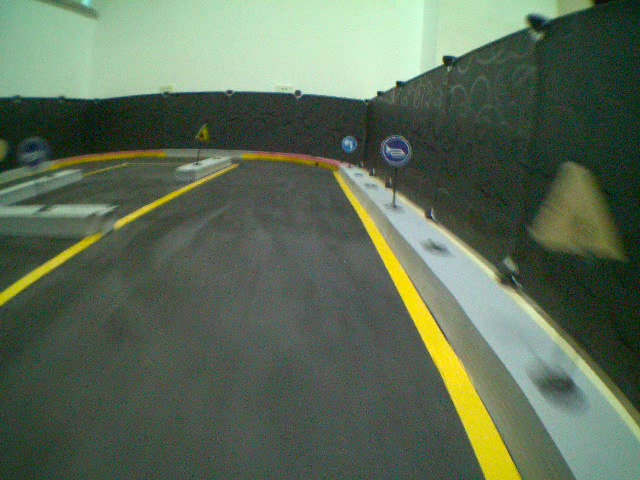fast: (192, 121, 211, 145)
horn: (381, 133, 412, 166)
turn: (339, 133, 358, 154)
